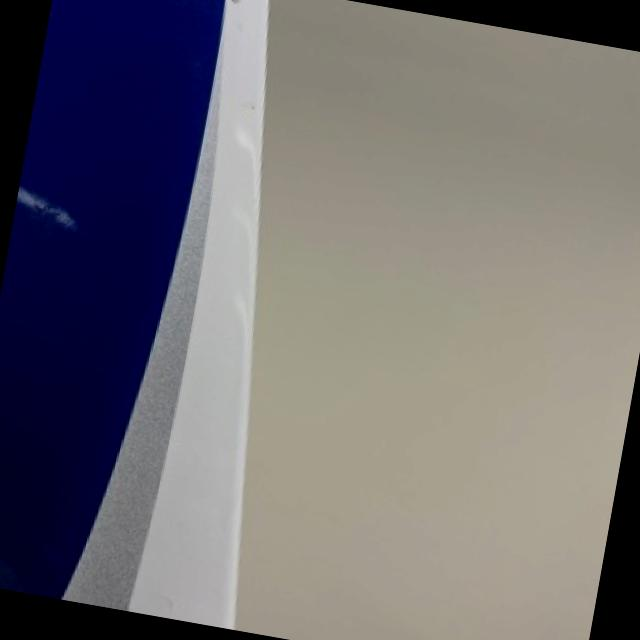healthy: (0, 0, 266, 627)
